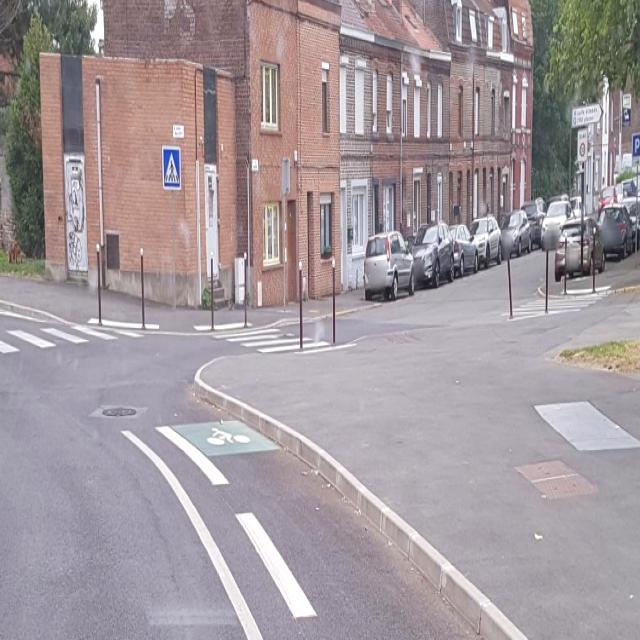speed_30: (580, 142, 586, 157)
